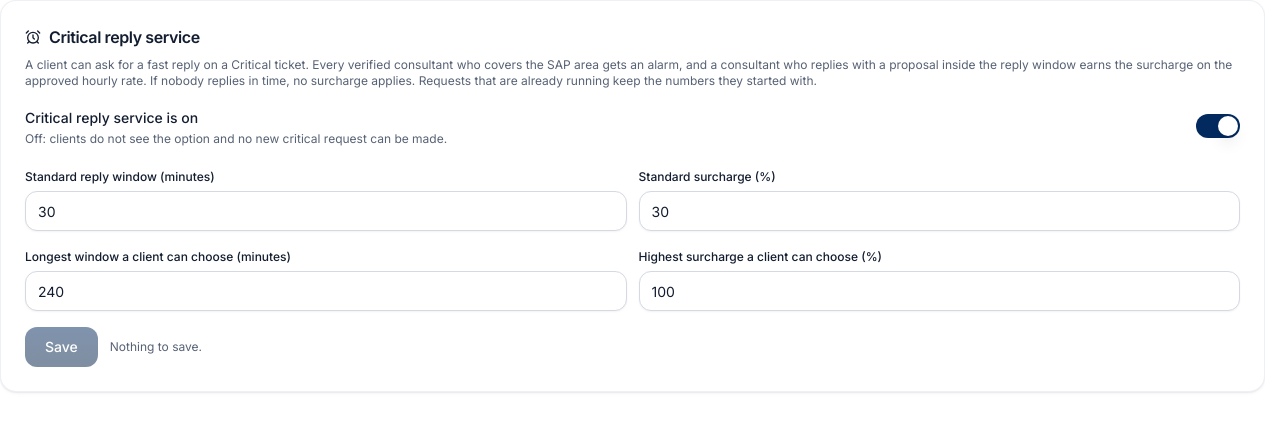
Test case: CriticalServiceSettingsCard › refuses numbers the database would refuse
Step 1. Replace the text in the field labelled "Standard reply window (minutes)" with "3" → (326, 211), box top-left (25, 191), bottom-right (626, 231)
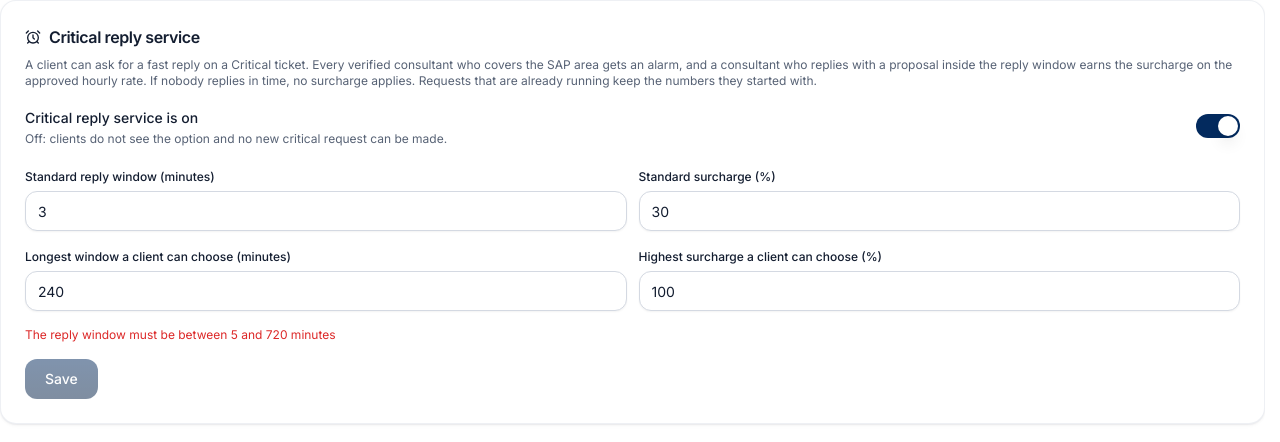
Expected: the message reads "The reply window must be between 5 and 720 minutes", top-left (25, 327), bottom-right (336, 342)
Step 2. Replace the text in the field labelled "Standard reply window (minutes)" with "30" → (326, 211), box top-left (25, 191), bottom-right (626, 231)
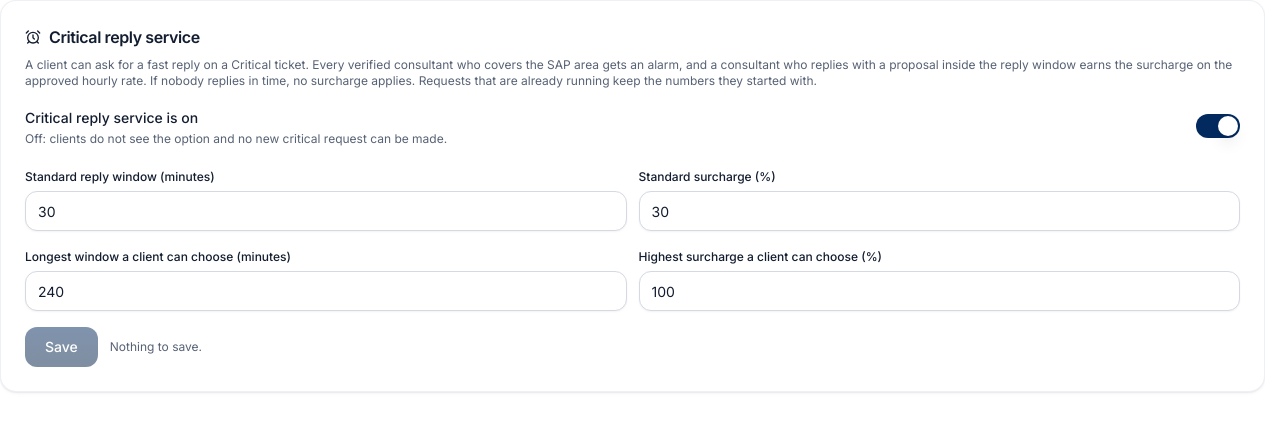
Step 3. Replace the text in the field labelled "Highest surcharge a client can choose (%)" with "20" → (939, 291), box top-left (638, 271), bottom-right (1240, 311)
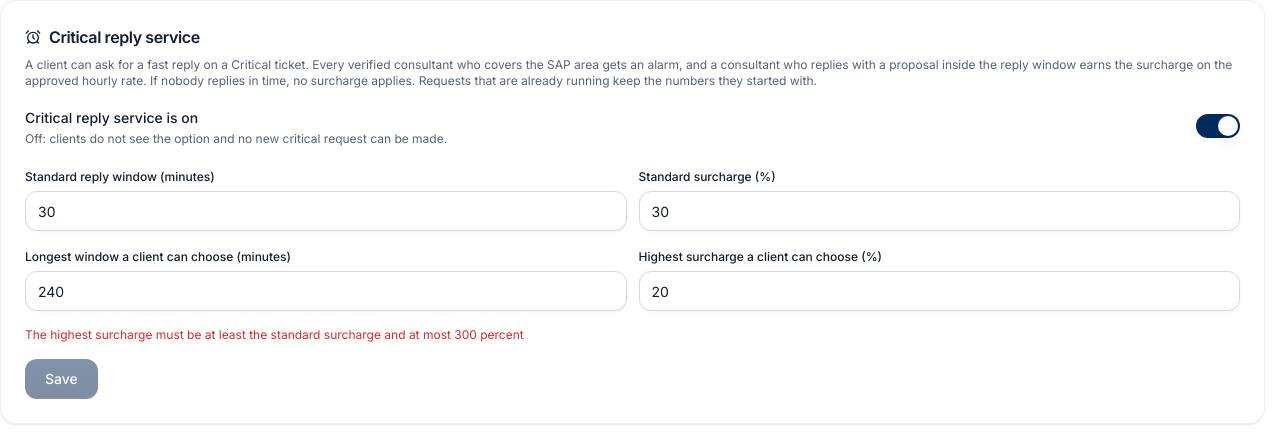
Expected: the message shows "The highest surcharge must be at least the standard surcharge", top-left (25, 327), bottom-right (524, 342)
Step 4. Clear the field labelled "Standard surcharge (%)" → (939, 211), box top-left (638, 191), bottom-right (1240, 231)
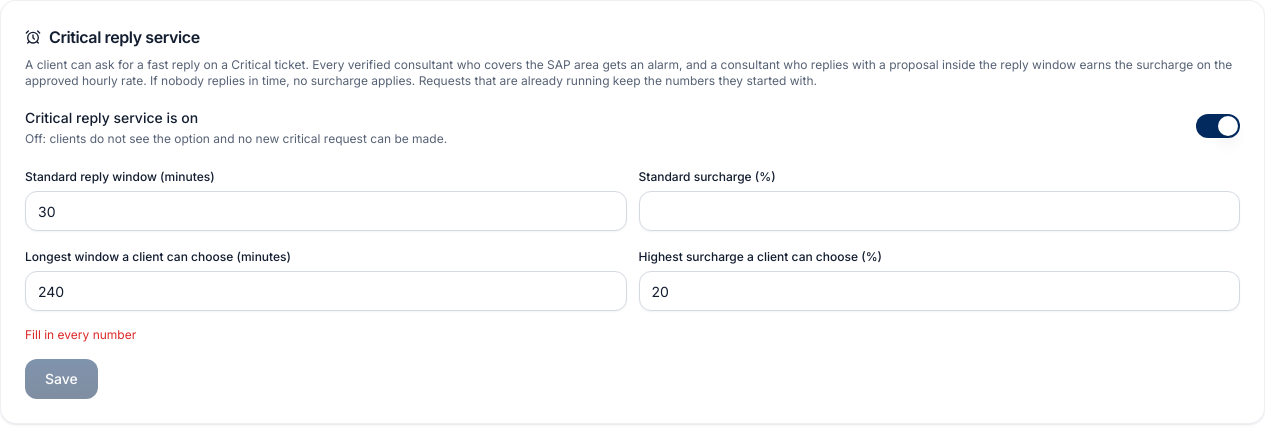
Expected: the message reads "Fill in every number", top-left (25, 327), bottom-right (136, 342)
